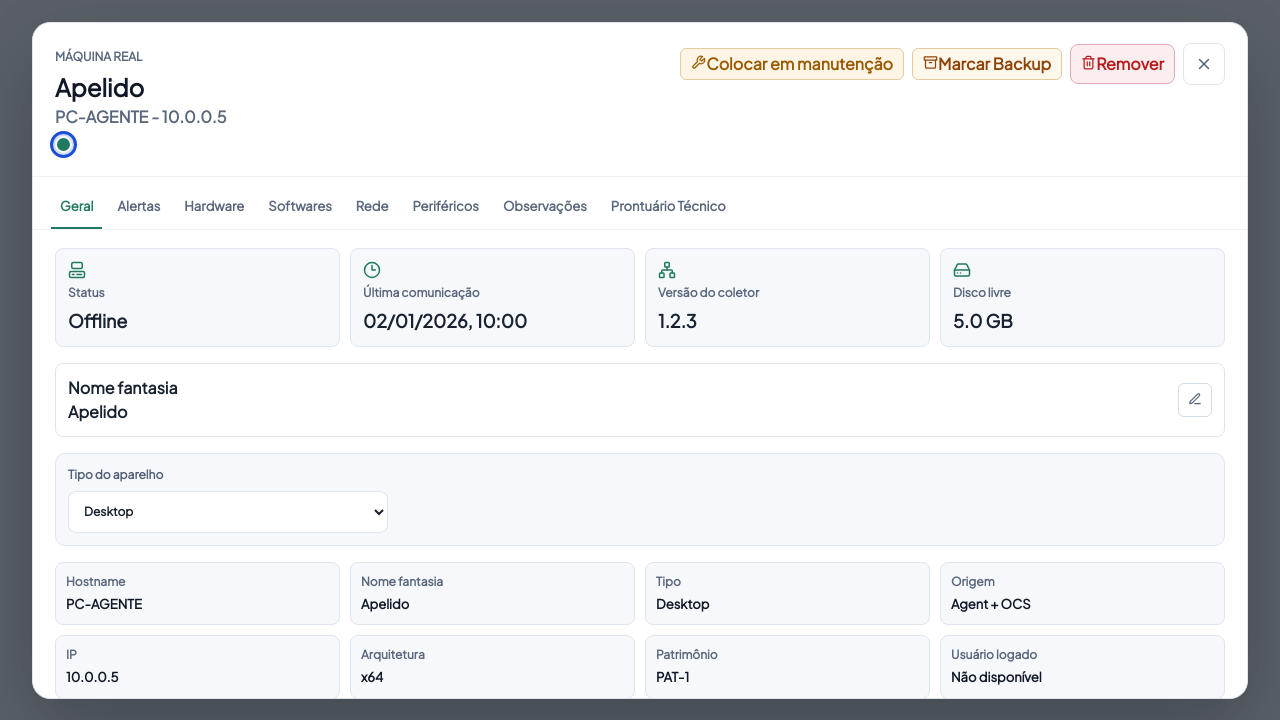
Test: MachineDetailsModal — demais abas › lista alertas ativos e resolvidos
This screenshot has width=1280, height=720.
Click the button "Alertas" at (139, 208), box [108,187,169,228]
(page scrolled)
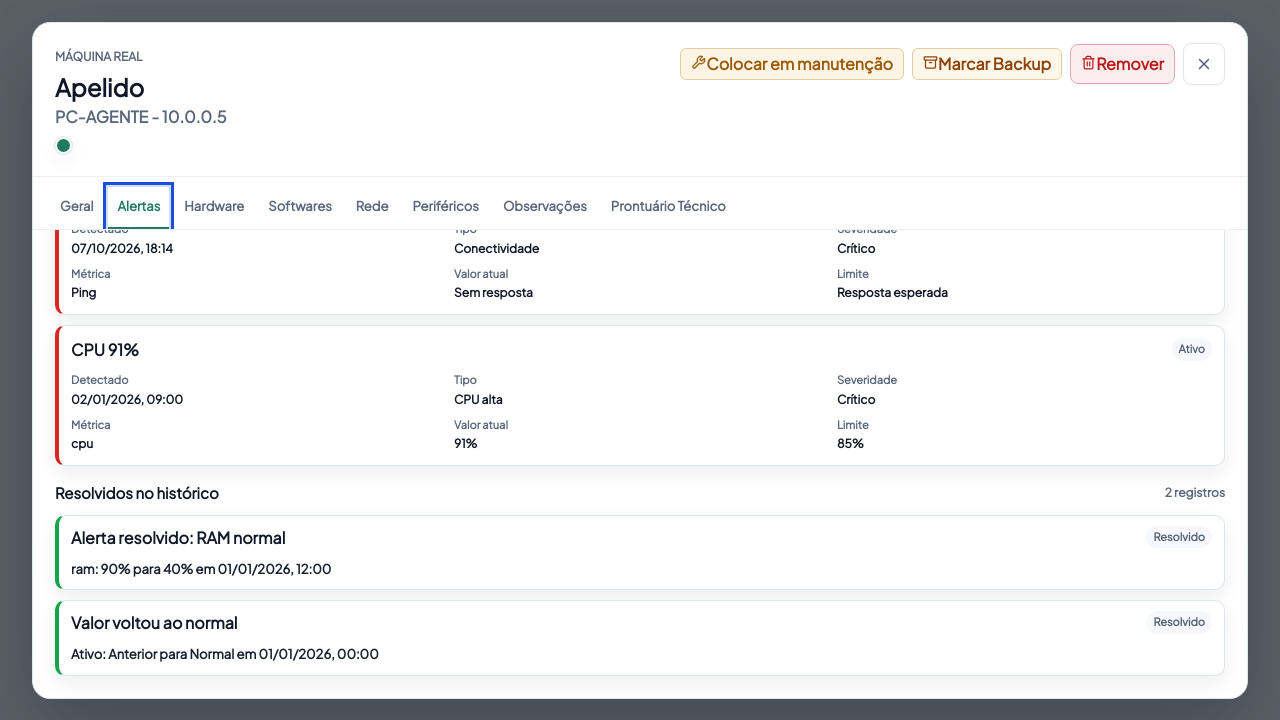
Now the text "CPU 91%" is shown, box [71,338,139,362]
Now the text "Alerta resolvido: RAM normal" is shown, box [71,526,285,550]
Now the text "Valor voltou ao normal" is shown, box [71,611,238,635]
